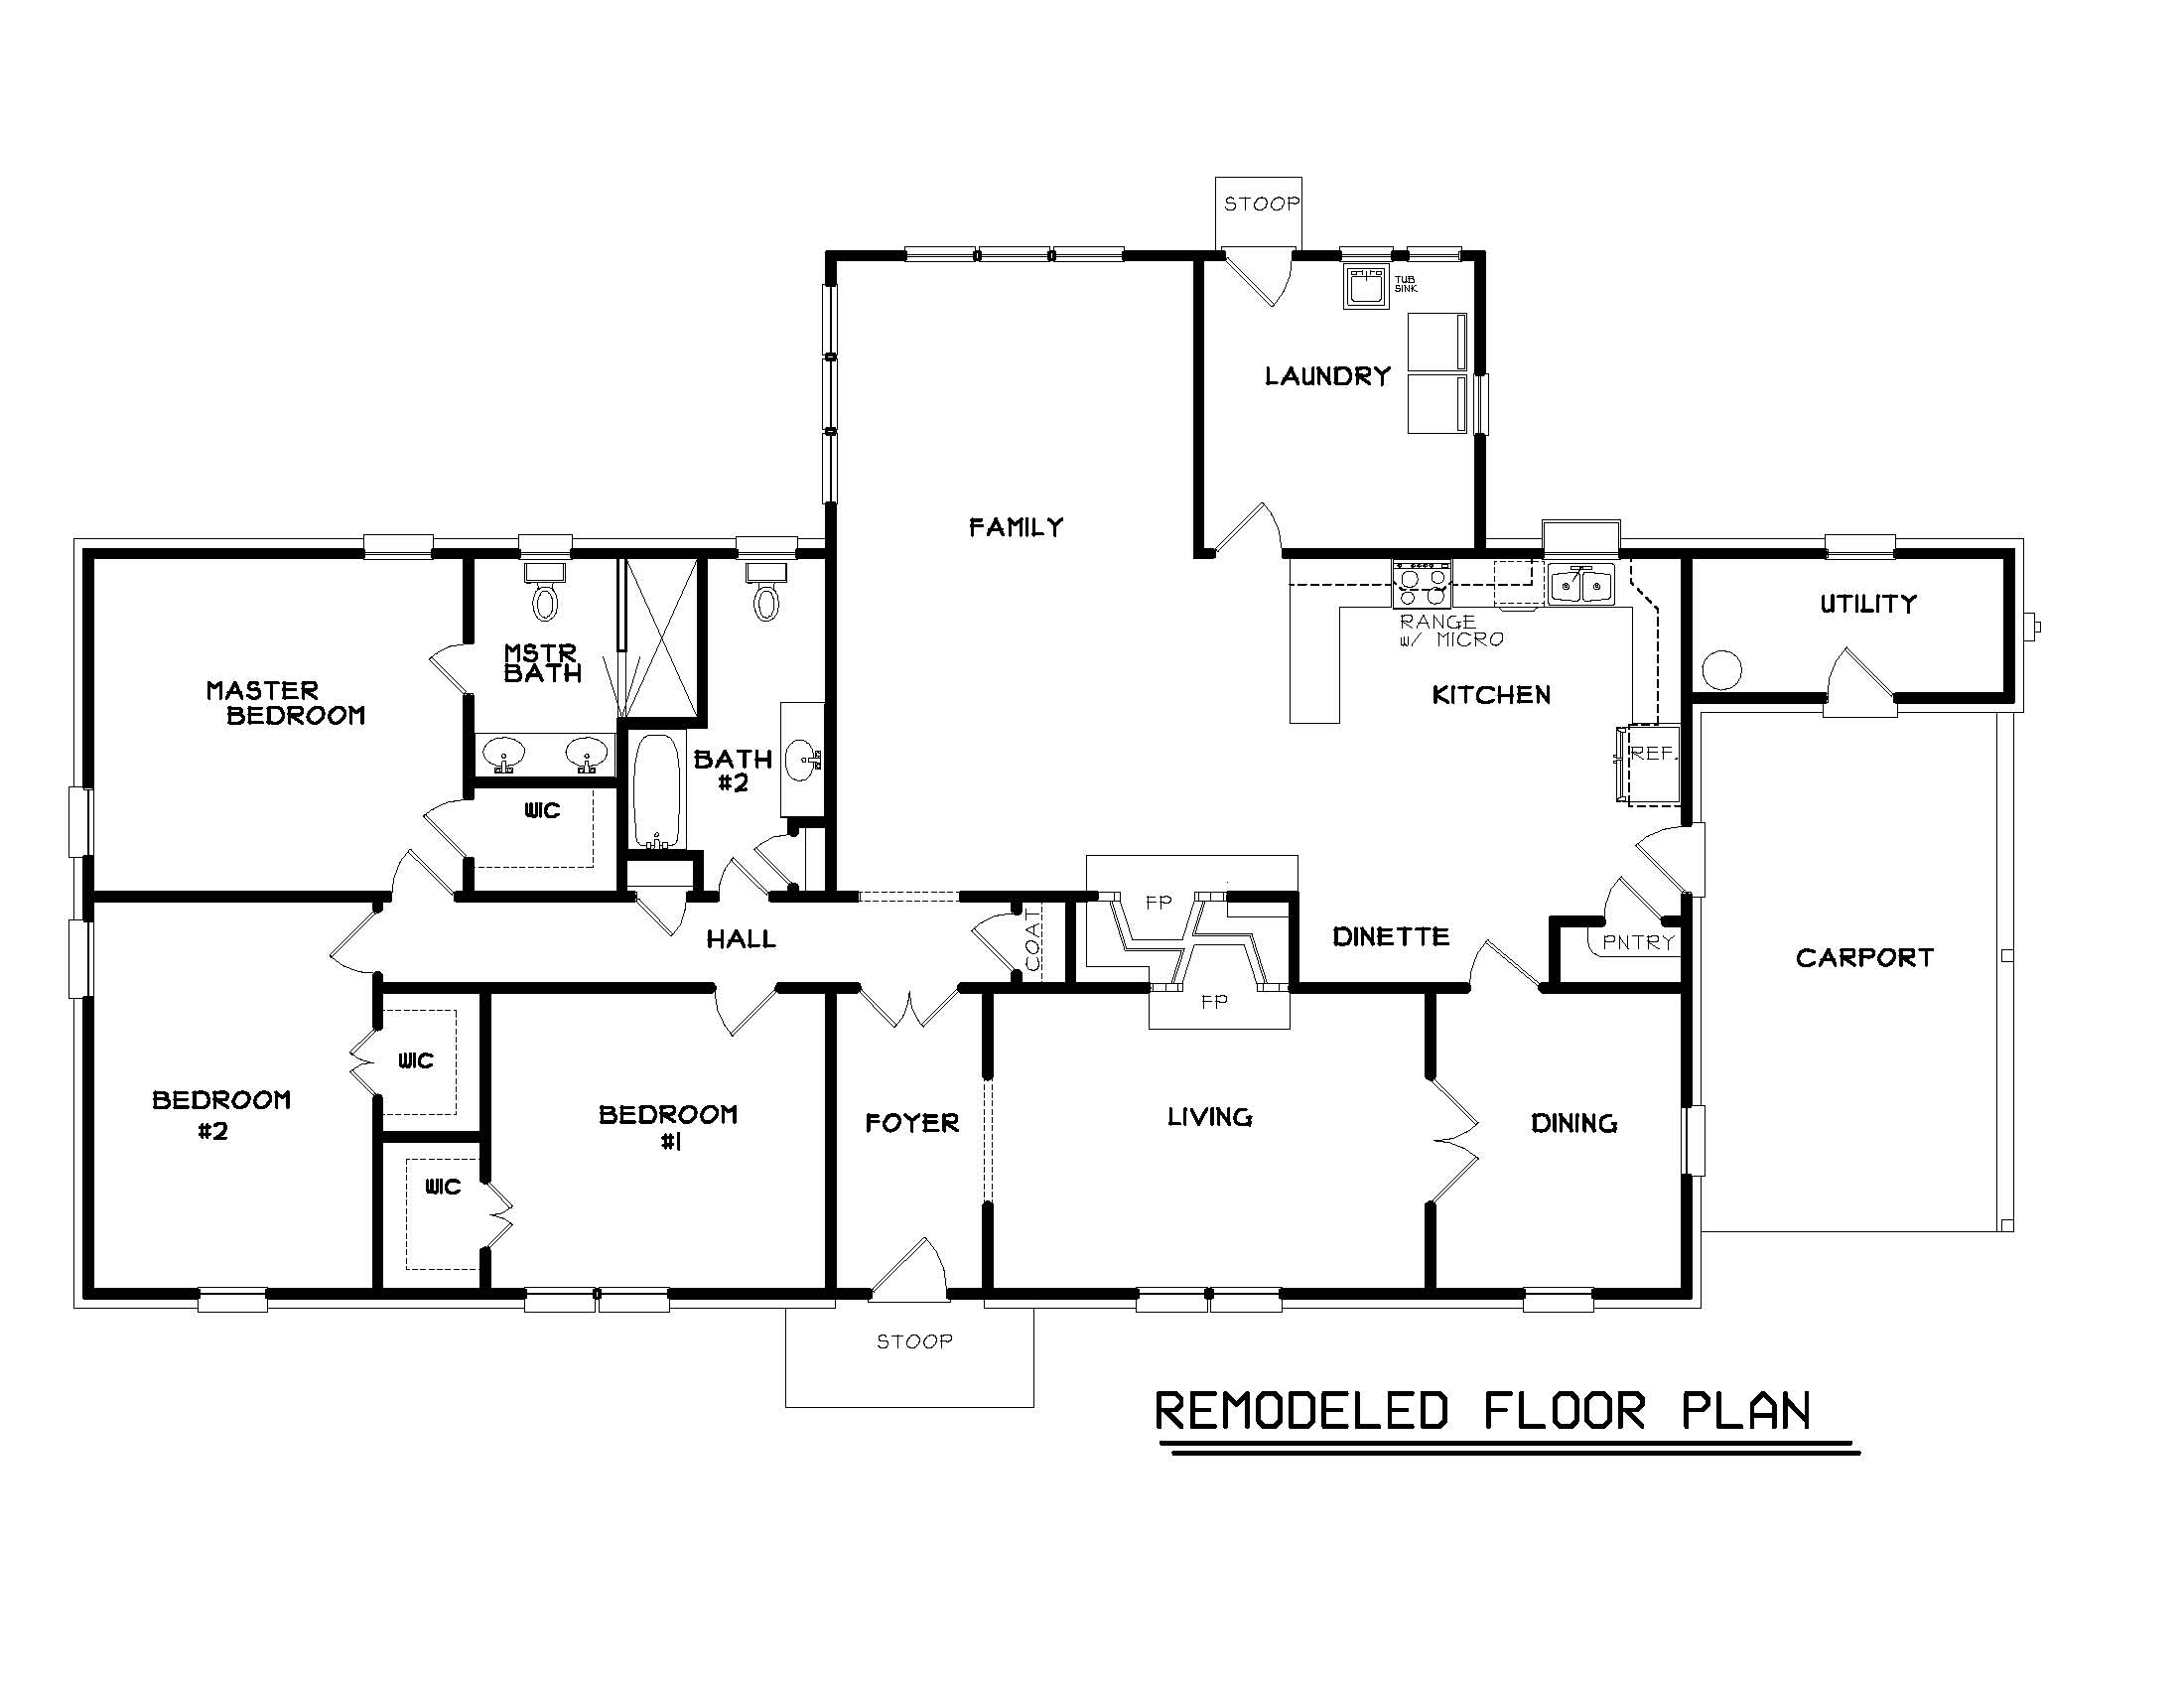door: (1420, 1082, 1491, 1199), (870, 1236, 954, 1291), (1466, 931, 1540, 988), (1220, 264, 1298, 316), (862, 988, 952, 1030), (1218, 495, 1287, 550), (1631, 817, 1677, 895), (321, 913, 374, 979), (1826, 642, 1897, 690), (408, 637, 459, 702), (379, 846, 452, 892), (963, 908, 1012, 972), (707, 996, 778, 1039), (415, 789, 459, 856), (1592, 878, 1666, 915), (626, 904, 697, 940), (346, 1028, 381, 1096), (486, 1184, 518, 1248), (753, 833, 789, 881), (714, 855, 757, 892)
